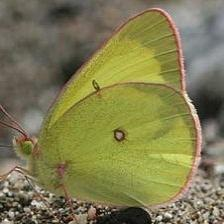butterfly: (14, 8, 203, 206)
